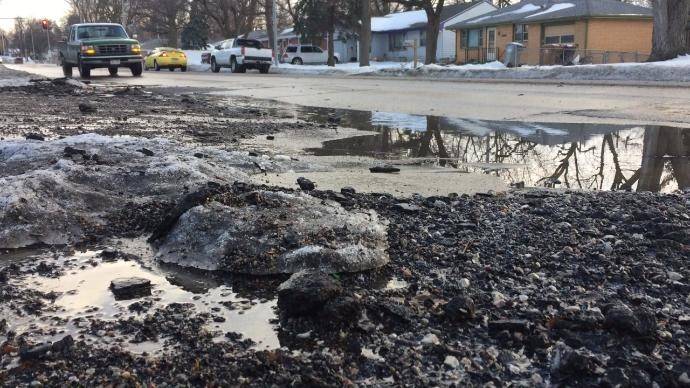pothole: (59, 132, 390, 337), (405, 94, 651, 220)
